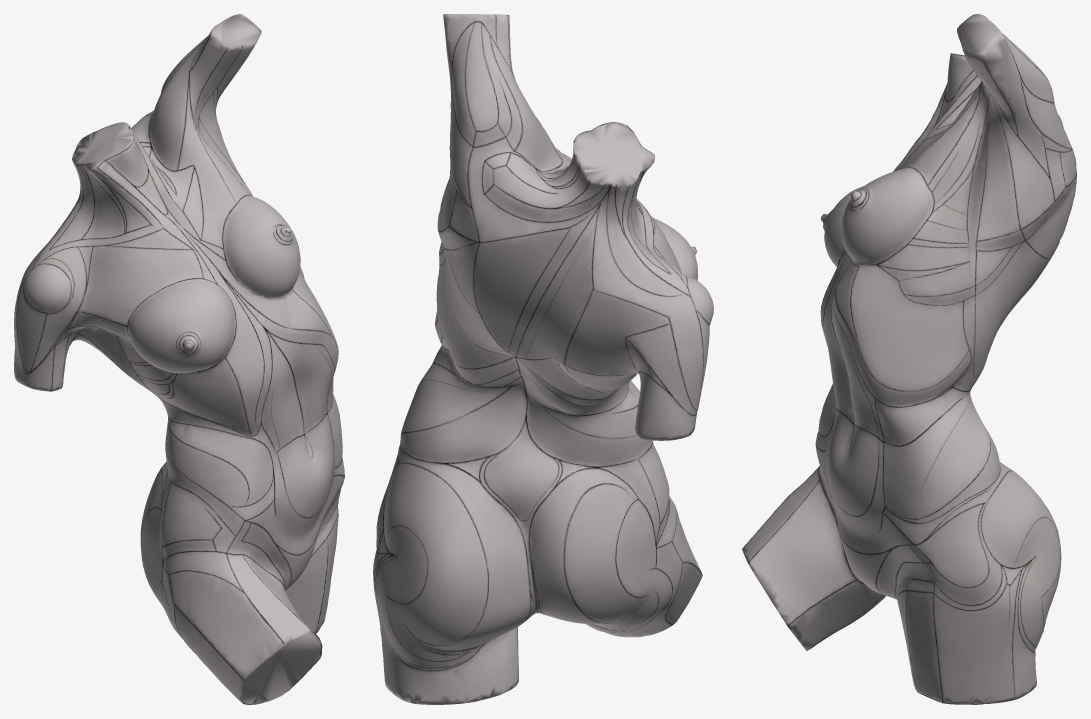
The model's file is 人物其它_20260324191518_opt.glb.
The picture shows the model from 3 angles, left to right: view 1: azimuth 30°, elevation 25°; view 2: azimuth 150°, elevation 25°; view 3: azimuth 270°, elevation 25°; orthographic projection. The views are drawn at different scales.
Visible parts, largest first — view 1: FemaleBlockoutTorso_Low; view 2: FemaleBlockoutTorso_Low; view 3: FemaleBlockoutTorso_Low.
Boxes of the visible parts, x1,y1,x2,y2 form: FemaleBlockoutTorso_Low: (14, 14, 344, 704); FemaleBlockoutTorso_Low: (373, 14, 713, 704); FemaleBlockoutTorso_Low: (742, 14, 1076, 704).
Size of the model in its own units: 0.2063 by 0.4 by 0.1883.
Materials: 1 (1 with a texture image).
